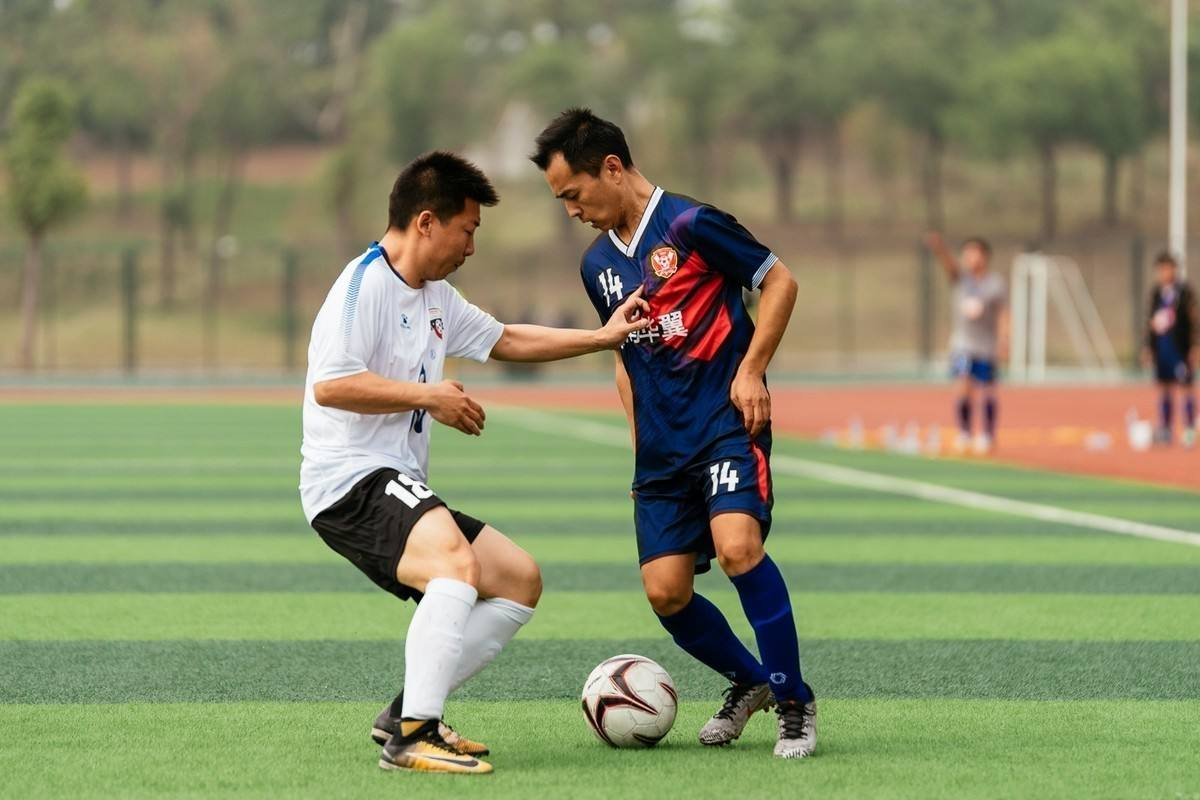football: (580, 654, 680, 750)
